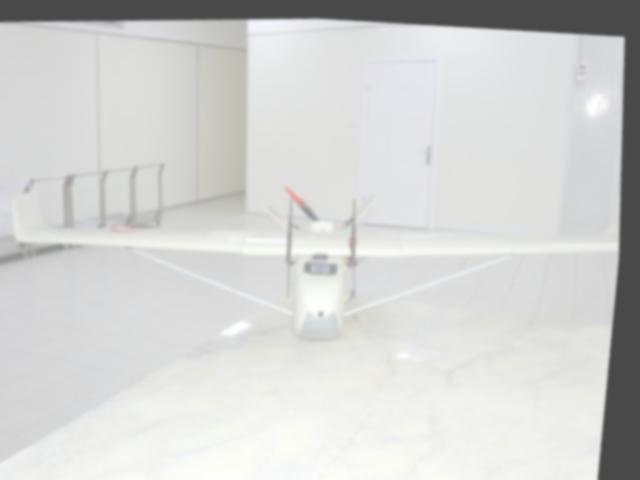iha: (0, 134, 630, 378)
